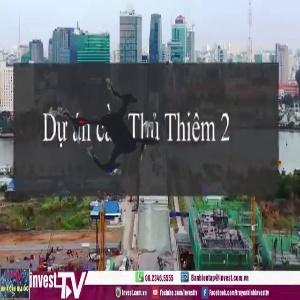drone: (21, 31, 218, 228)
